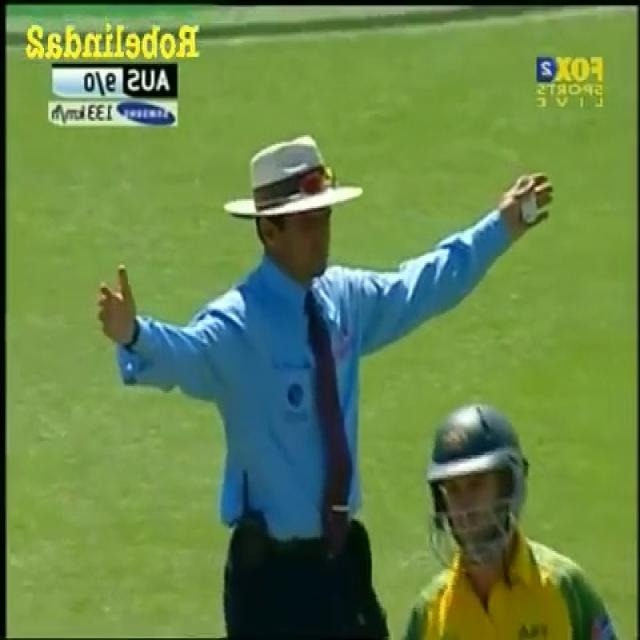Wide: (96, 124, 553, 640)
